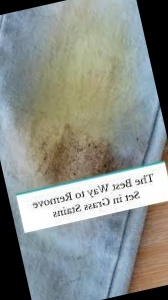earth: (4, 23, 152, 187)
